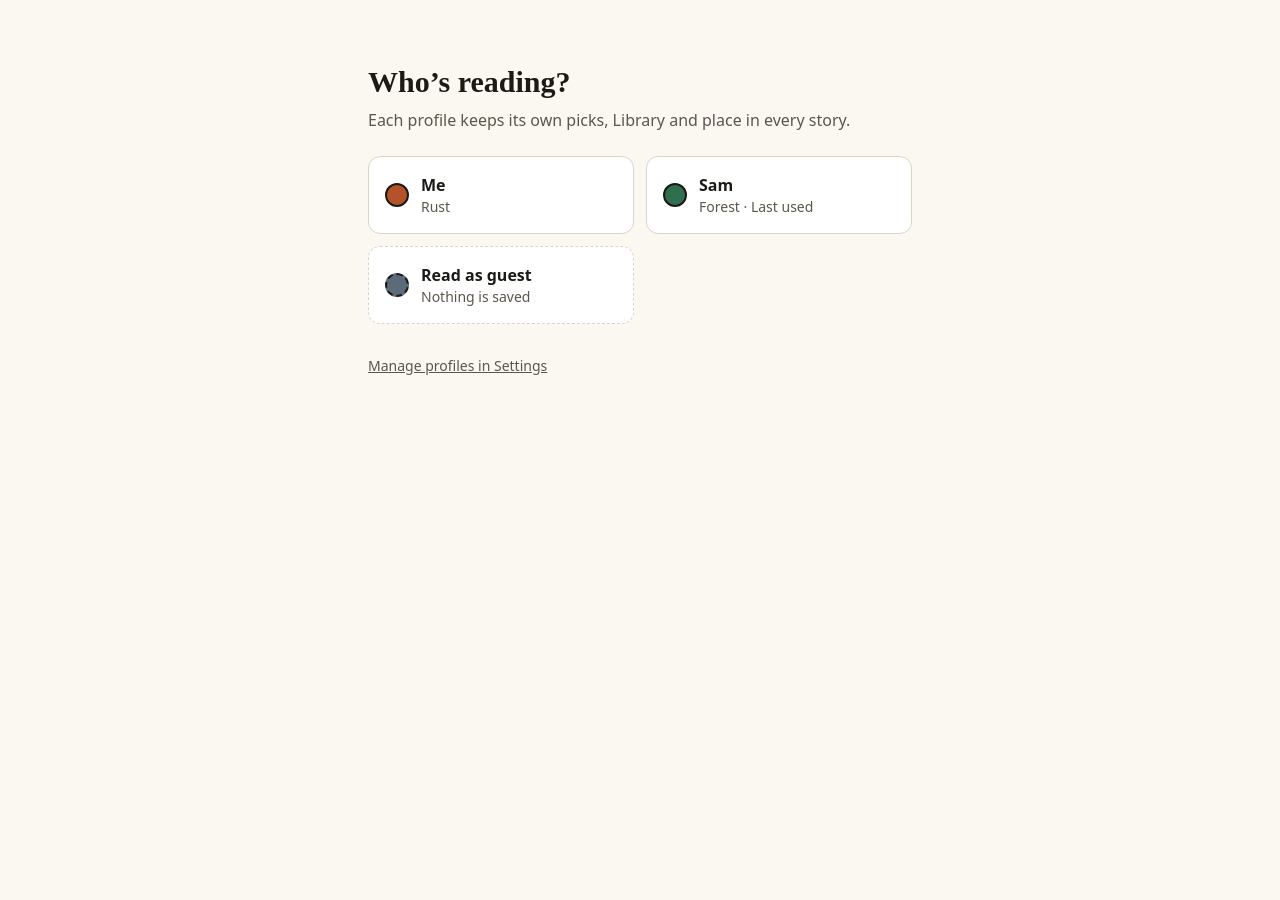
Test: two profiles › asks Who’s reading? first in a browser session, marking the last used
Expected: the heading "Who’s reading?" is shown, top-left (368, 65), bottom-right (570, 98)
Expected: the text "Forest · Last used" is shown, top-left (699, 197), bottom-right (813, 217)
// Choosing one goes on to the page that was asked for.
Step 1. Click the button "Sam Forest · Last used" → (779, 195), box top-left (646, 156), bottom-right (912, 234)
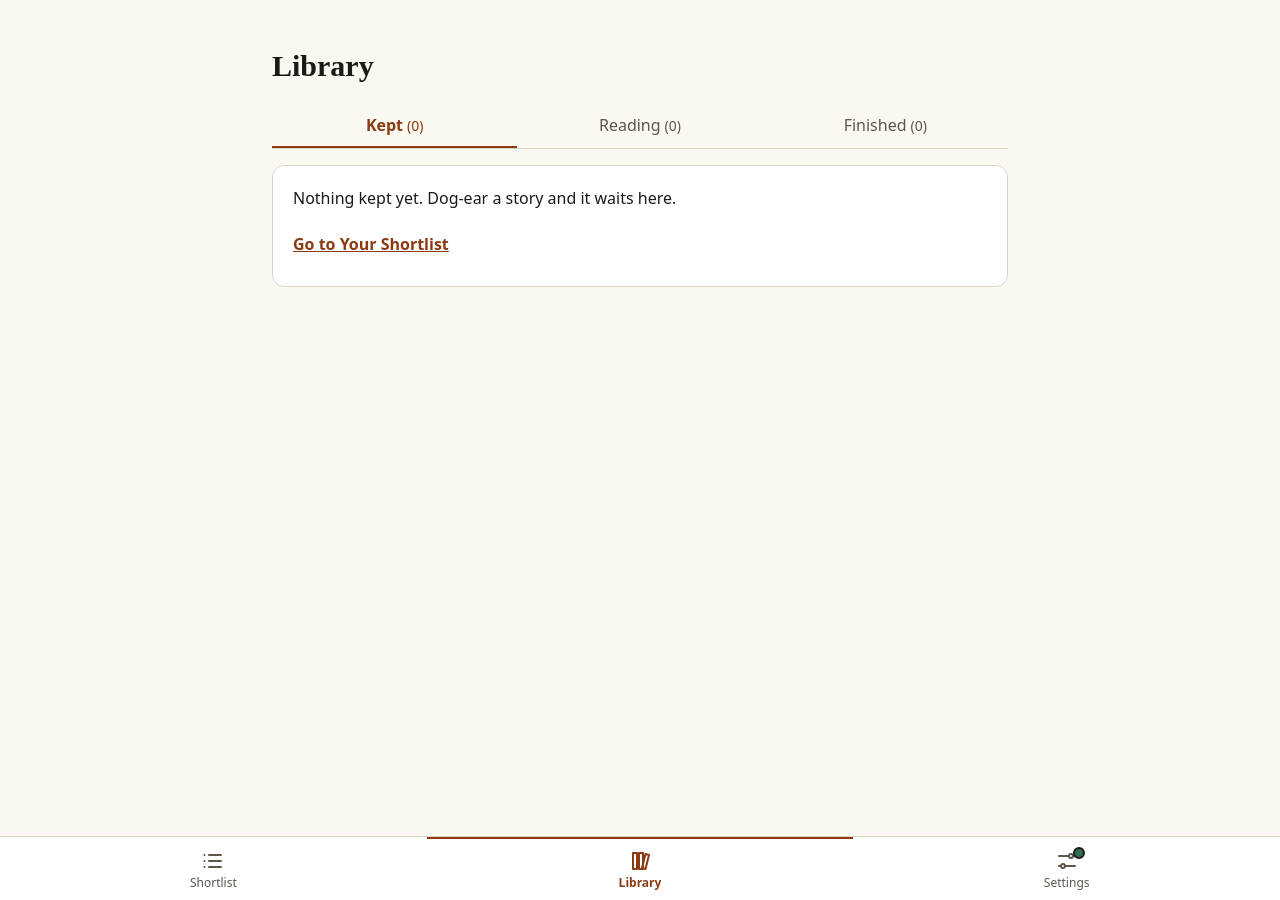
Expected: the heading "Library" is shown, top-left (272, 49), bottom-right (374, 82)
